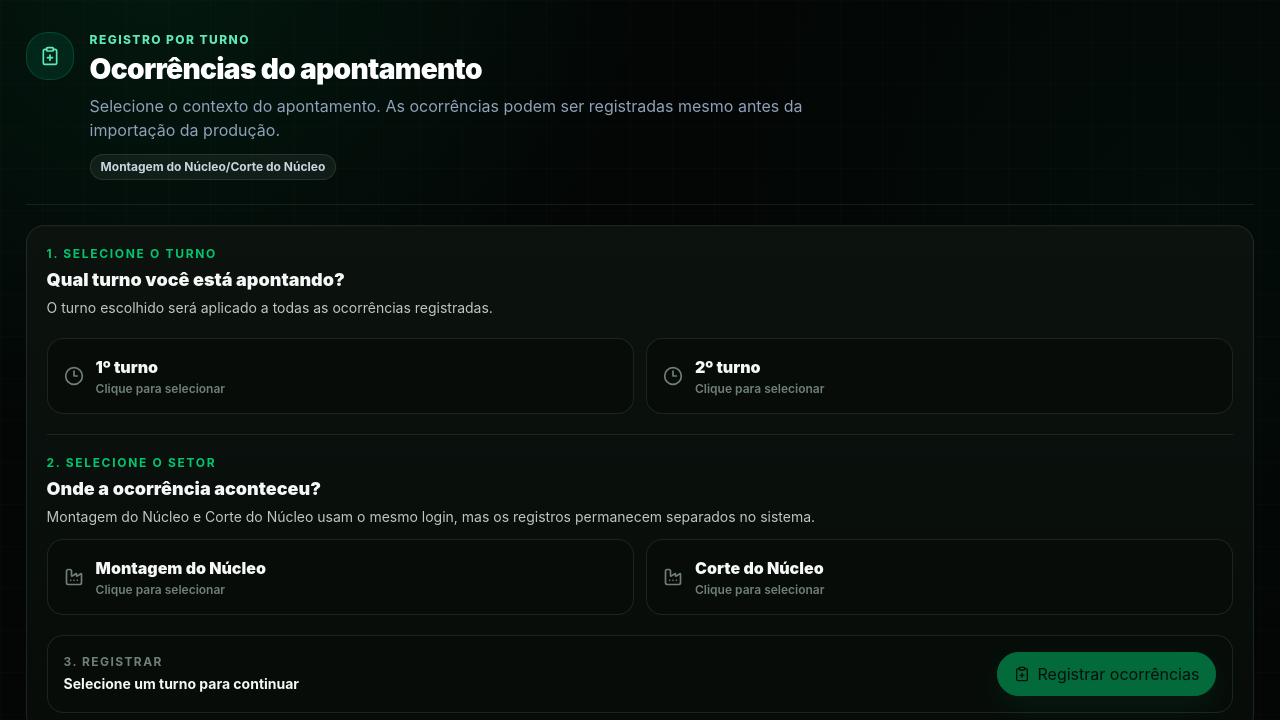
agrupa Montagem do Núcleo/Corte do Núcleo e mantém controle de turno nos dois
Expected: the heading "Qual turno você está apontando?" is shown, top-left (47, 268), bottom-right (345, 290)
Expected: the button "Registrar ocorrências" is disabled, top-left (996, 652), bottom-right (1216, 696)
Click the button "2º turno Clique para selecionar": click(728, 367) top-left (646, 338), bottom-right (1233, 414)
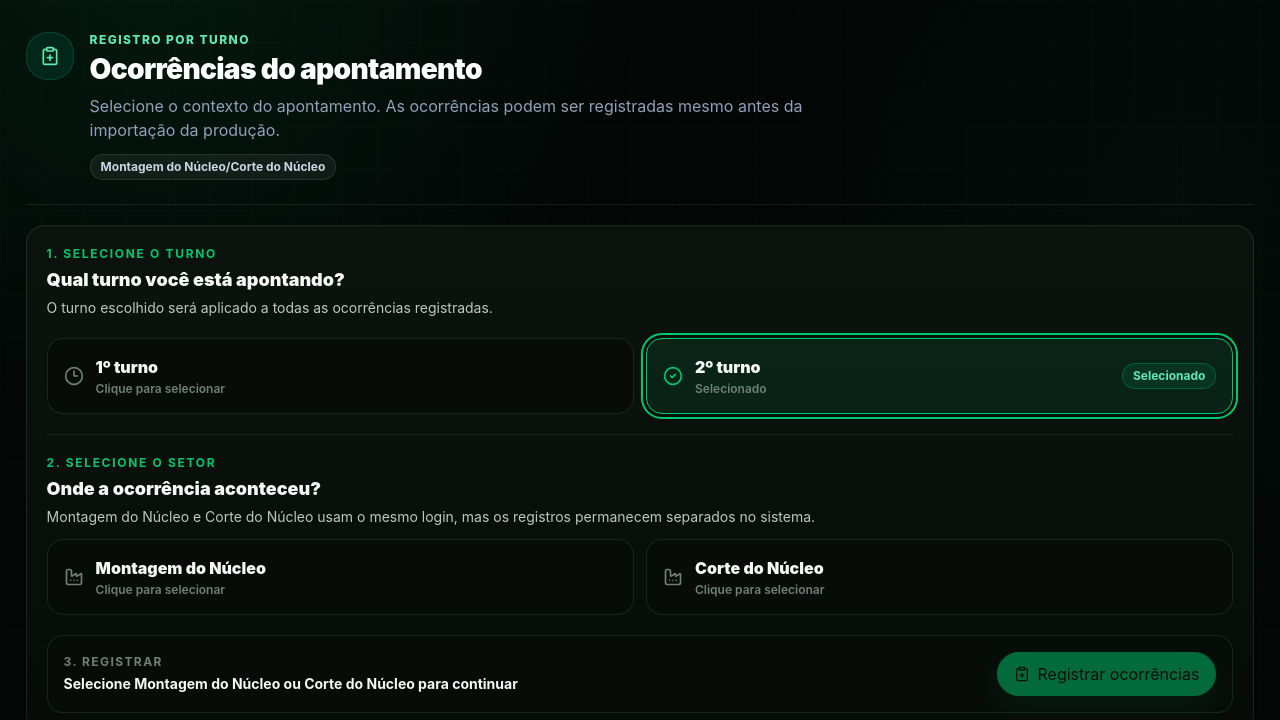
Click the button "Corte do Núcleo Clique para selecionar": click(759, 568) top-left (646, 538), bottom-right (1233, 614)
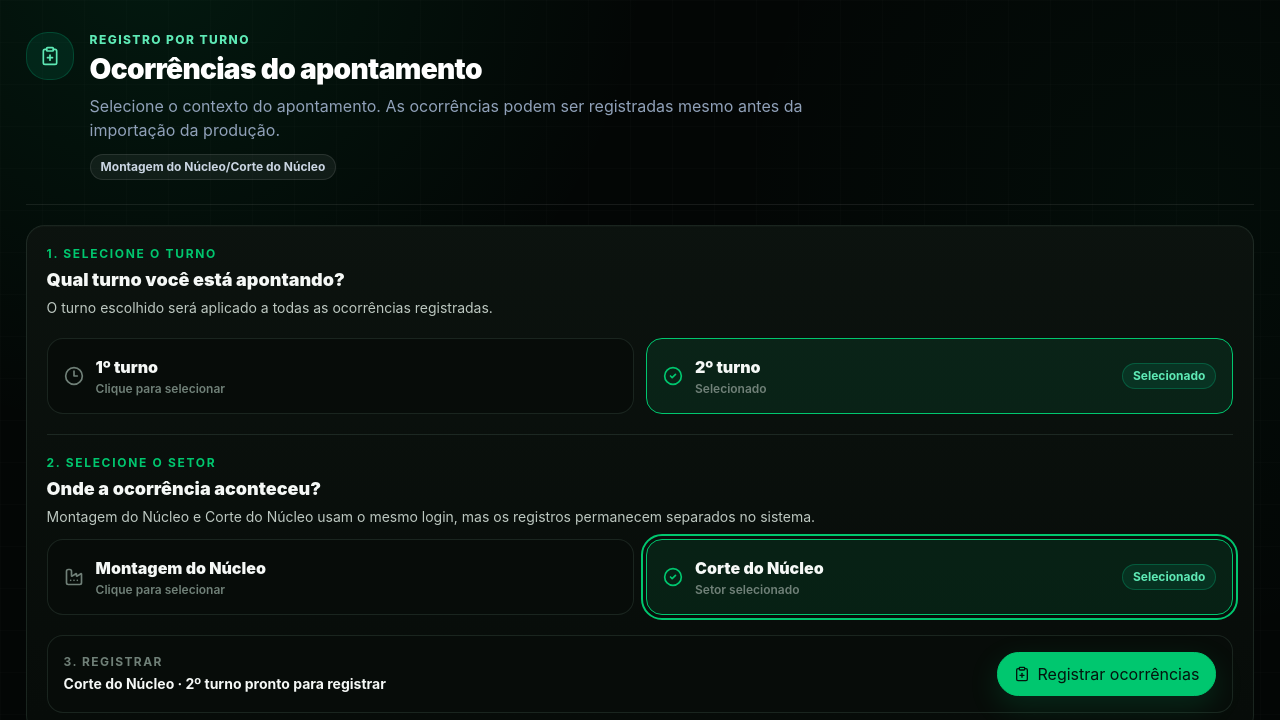
Expected: the button "Registrar ocorrências" is enabled
Click the button "Registrar ocorrências": click(1106, 674) top-left (996, 652), bottom-right (1216, 696)
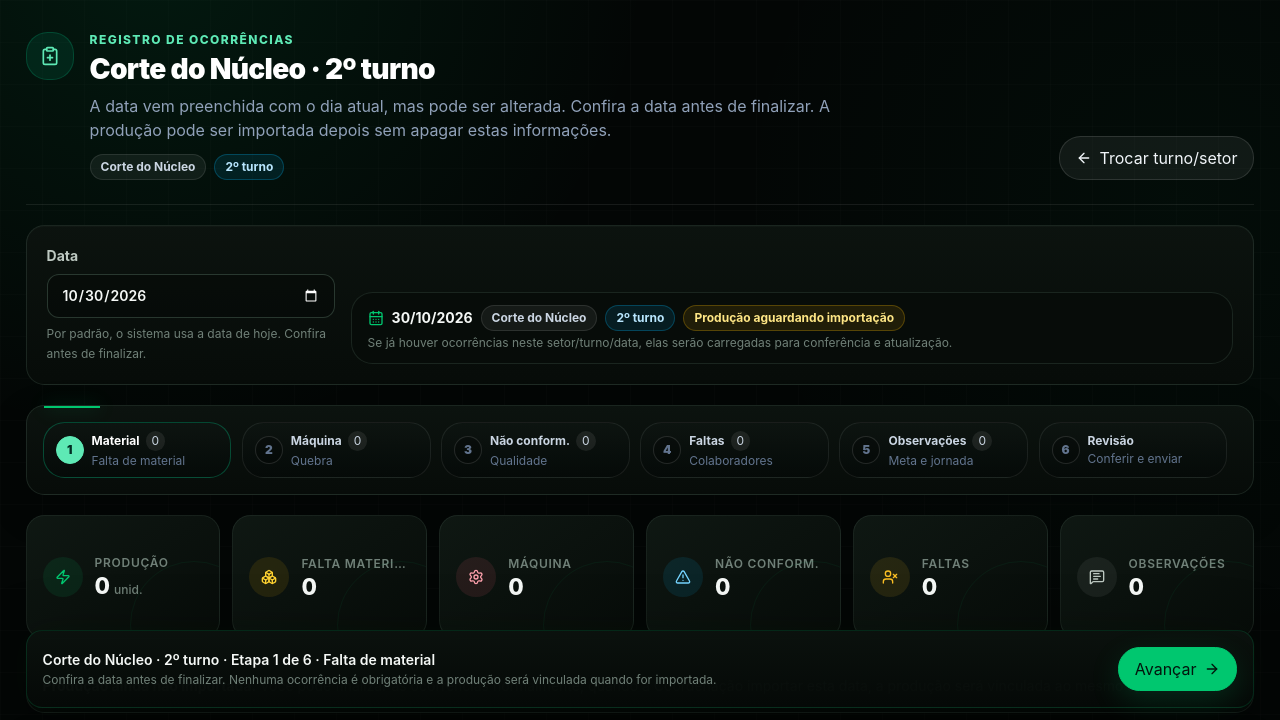
Expected: the heading "Corte do Núcleo · 2º turno" is shown, top-left (90, 52), bottom-right (435, 86)
